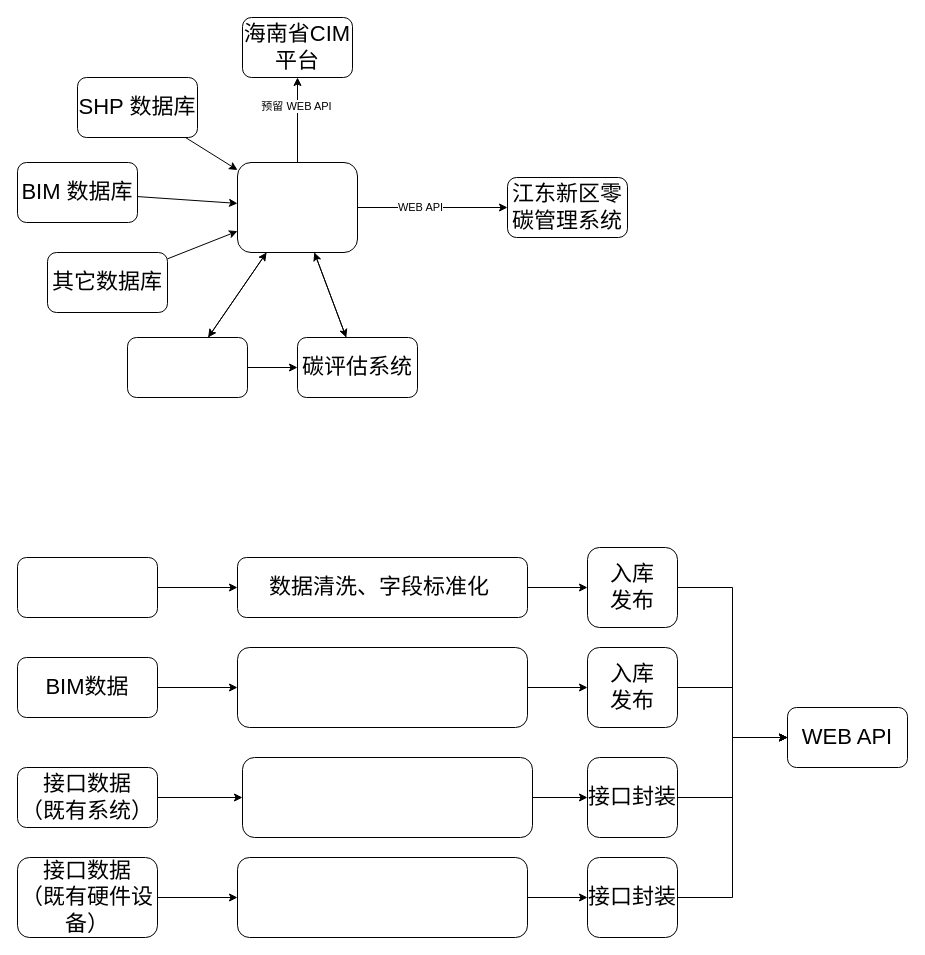
This 925x955 diagram has some shape labels left out. Here are the shapes that lost their labels. From the top down, the centre of each, then its label:
[297,207]: 江东新区CIM数据管理平台
[187,367]: 碳排放数据库
[87,587]: SHP数据
[382,687]: 数据清洗、字段标准化、几何数据与非几何数据分离
[387,797]: 字段标准化
[382,897]: 添加硬件标识
